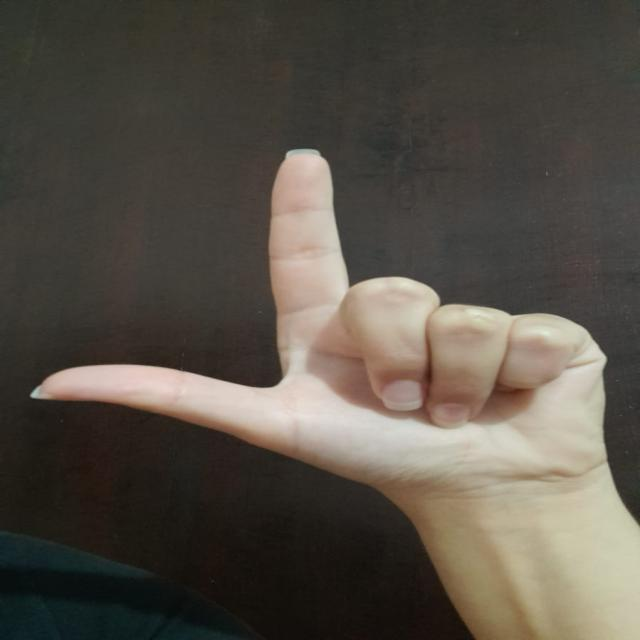L: (18, 138, 630, 490)
